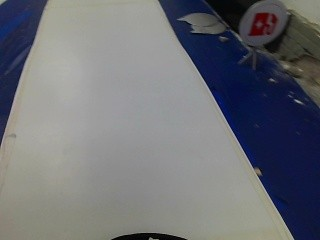battery: (241, 1, 283, 49)
